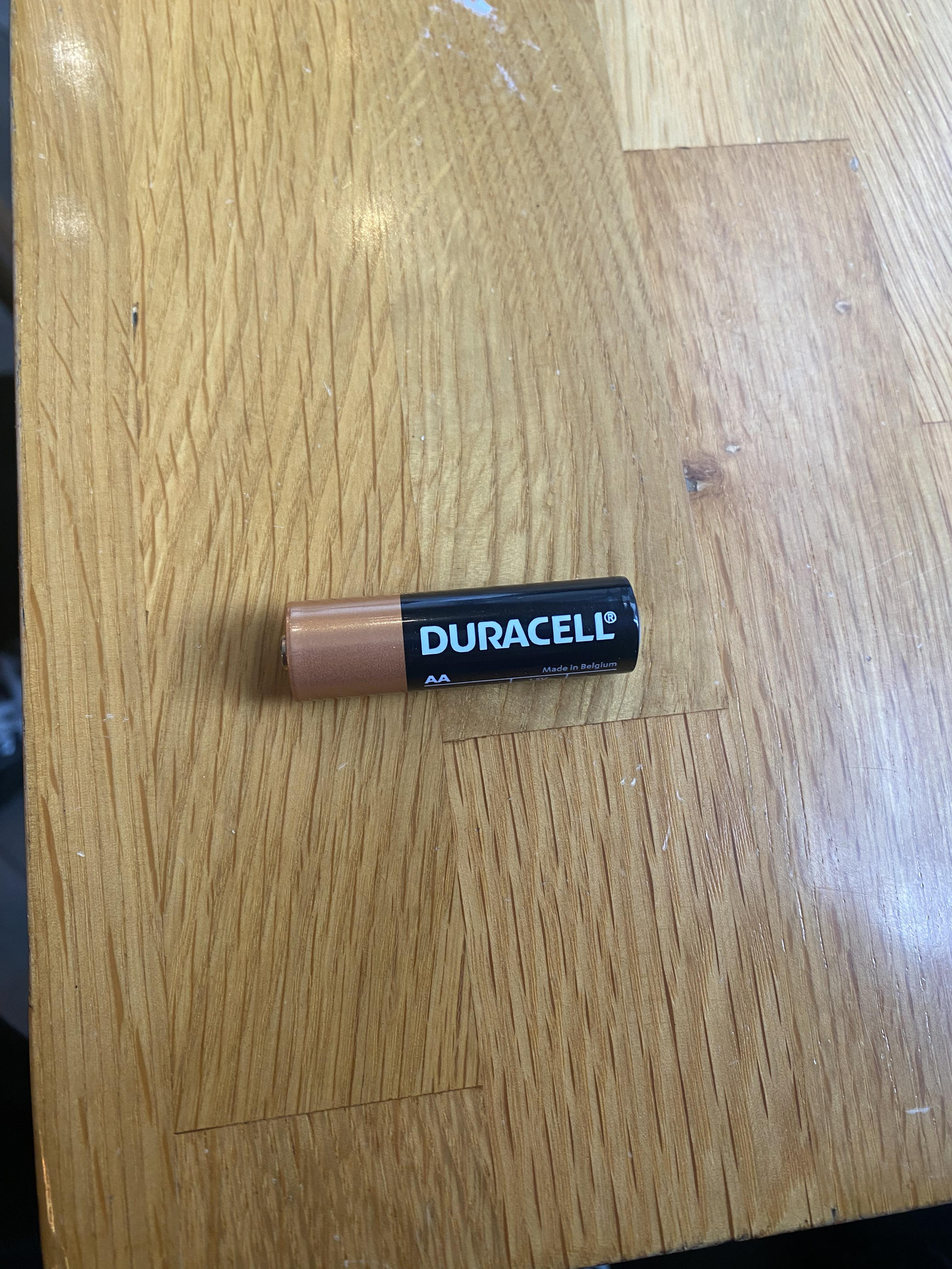AA: (279, 573, 641, 702)
